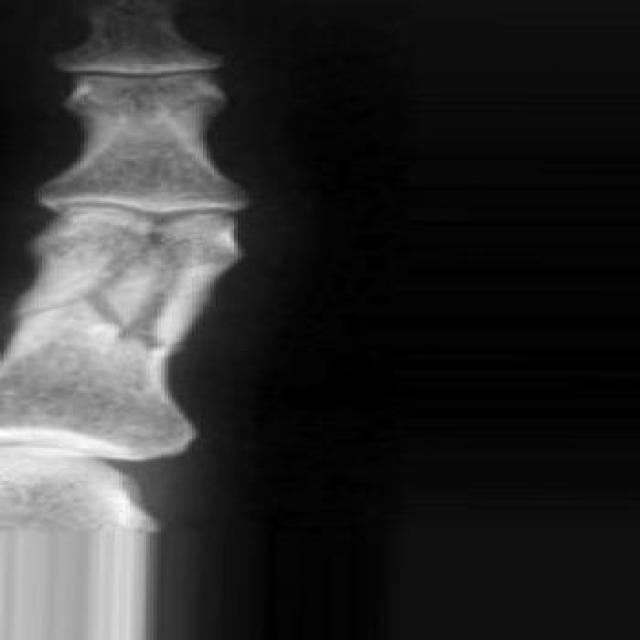Fracture: (0, 228, 269, 353)
